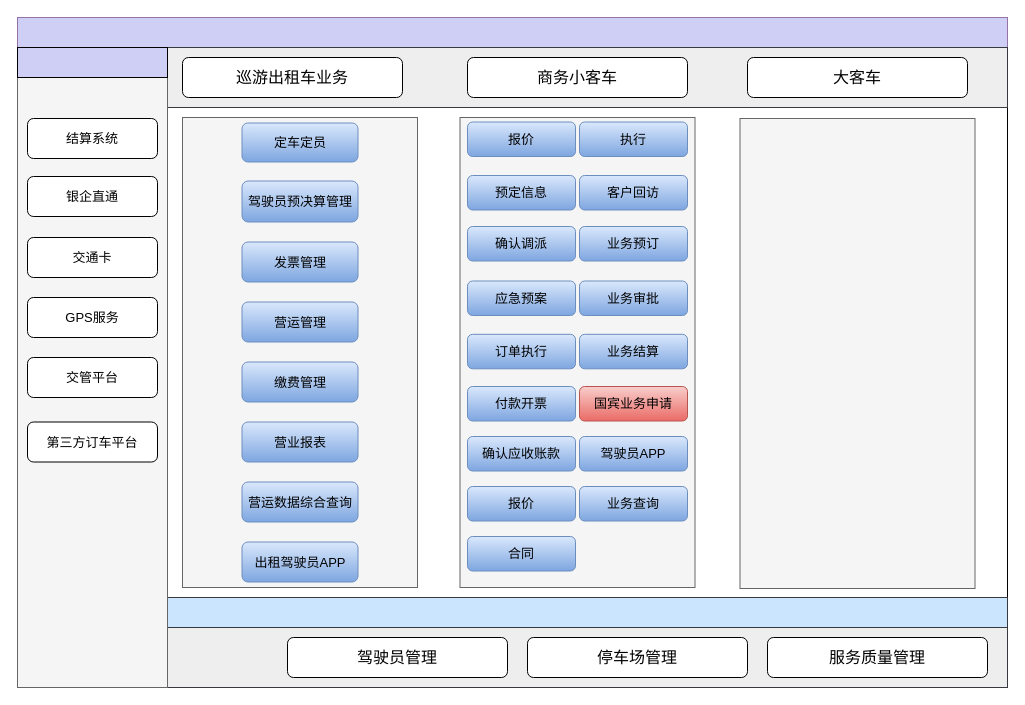
Some shapes in this 1025 by 705 pixel diagram are drawn without their labels. Each missing label, with the centre of its shape:
三方服务: (92,62)
汽车服务运营平台: (512,32)
综合服务: (587,612)
